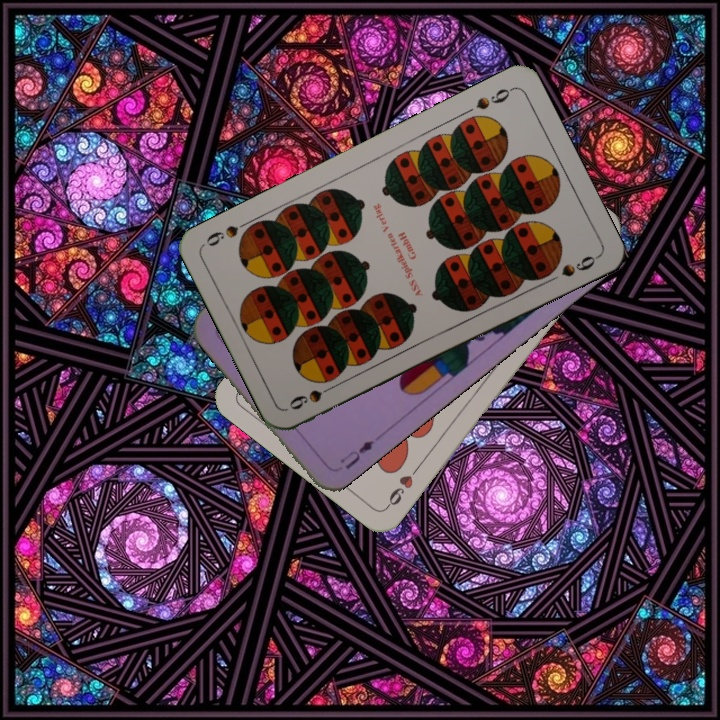EU: (335, 436, 377, 473)
H9: (382, 460, 424, 511)
S9: (285, 379, 341, 413), (472, 83, 516, 113)
